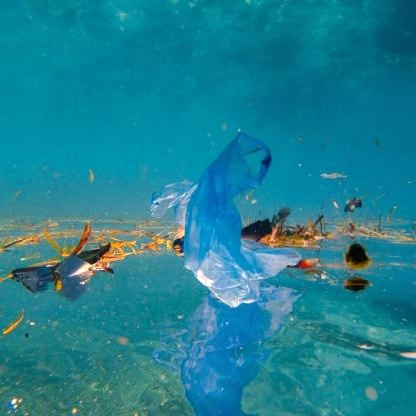pbag: (144, 122, 306, 312), (6, 238, 119, 294)
